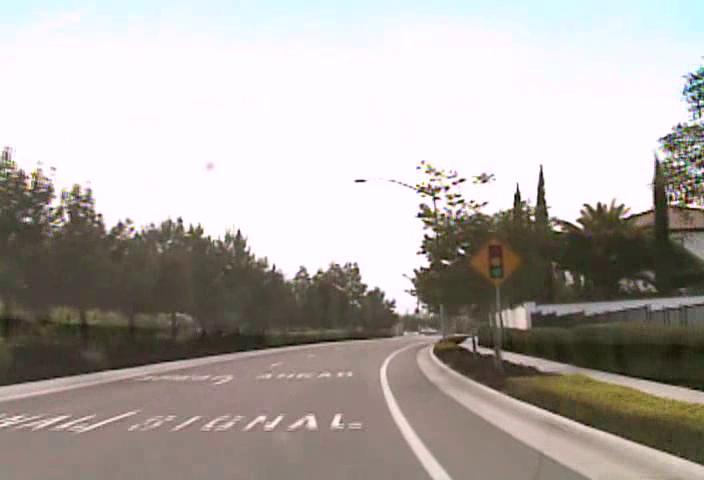signalAhead: (467, 235, 521, 286)
